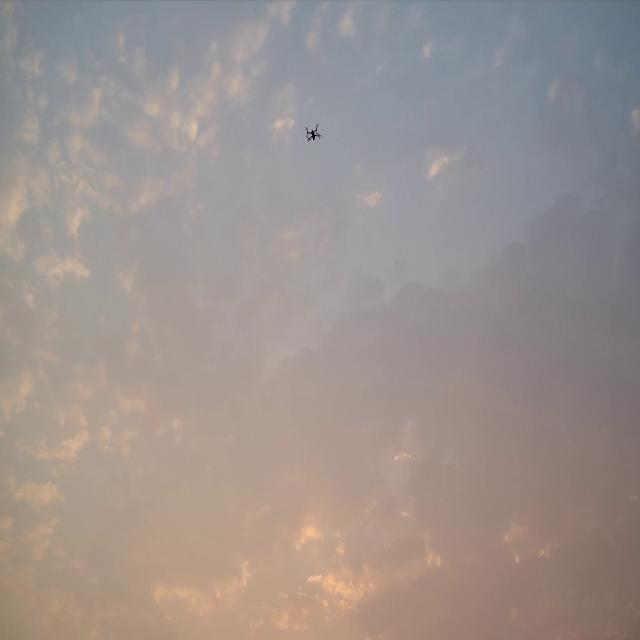drone: (305, 123, 323, 143)
